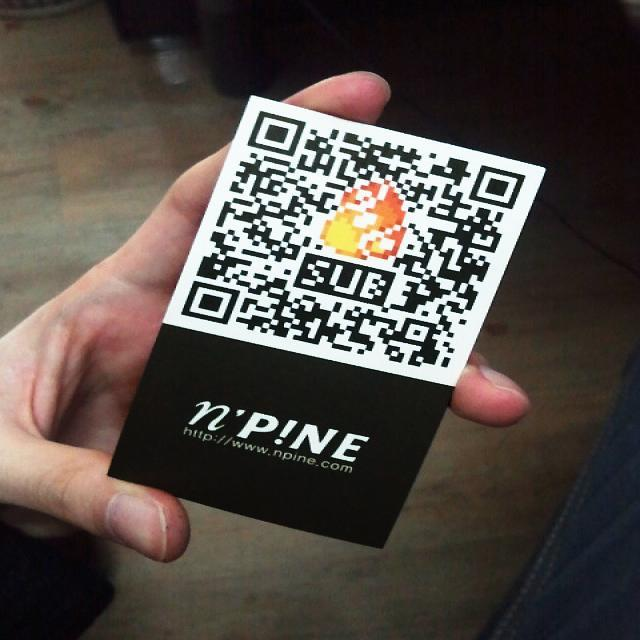qrcode: (181, 111, 526, 374)
